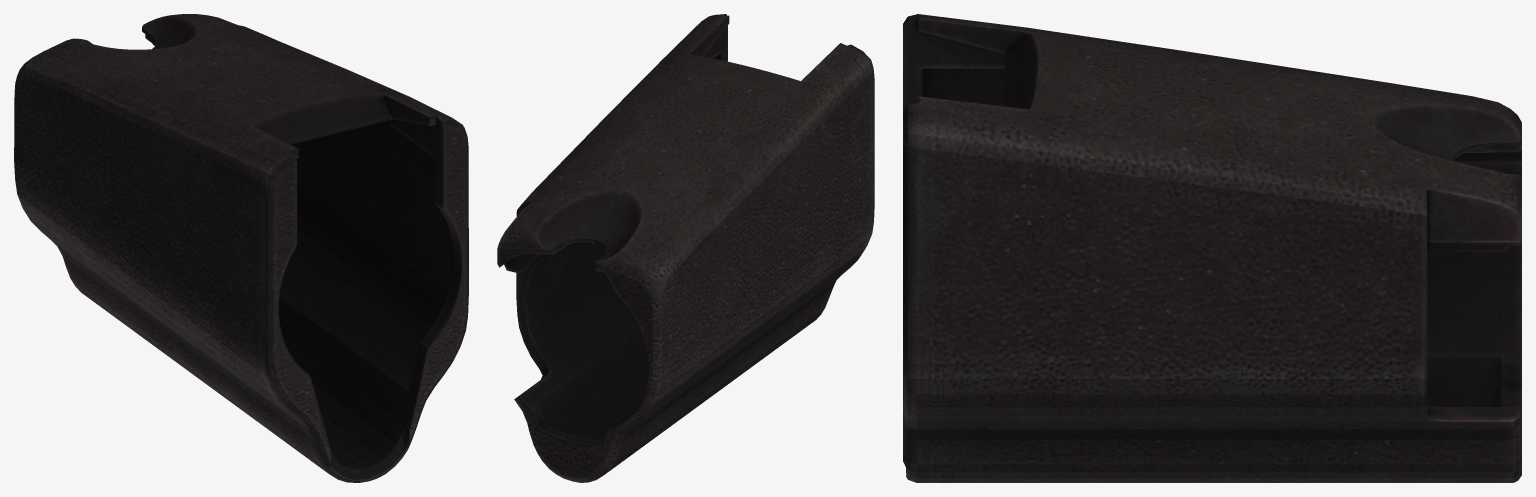
3 renders of one model, left to right at view 1: azimuth 30°, elevation 25°; view 2: azimuth 150°, elevation 25°; view 3: azimuth 270°, elevation 25°, orthographic. The views are drawn at different scales.
Visible parts, largest first — view 1: TW_651178336cad06c37c049eb4_PZ_Import; view 2: TW_651178336cad06c37c049eb4_PZ_Import; view 3: TW_651178336cad06c37c049eb4_PZ_Import.
Boxes of the visible parts, x1=… form: TW_651178336cad06c37c049eb4_PZ_Import: x1=14, y1=14, x2=468, y2=482; TW_651178336cad06c37c049eb4_PZ_Import: x1=497, y1=14, x2=874, y2=482; TW_651178336cad06c37c049eb4_PZ_Import: x1=903, y1=14, x2=1521, y2=482.
Bounding box in the file's own units: 0.0253 × 0.0551 × 0.0411.
Materials: 1 (1 with a texture image).
